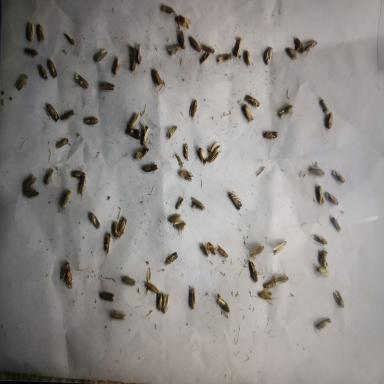pbw: (300, 156, 327, 182), (249, 282, 277, 307), (312, 309, 334, 337), (304, 223, 330, 246), (138, 272, 162, 296), (307, 180, 326, 210), (297, 36, 320, 60), (113, 213, 130, 245), (183, 281, 199, 315), (131, 139, 154, 162), (170, 8, 192, 32), (53, 106, 78, 127), (69, 71, 94, 92), (204, 141, 224, 167), (273, 102, 296, 124), (243, 242, 265, 265), (330, 287, 348, 315), (148, 66, 168, 91), (312, 93, 332, 118), (173, 19, 189, 50), (243, 256, 260, 285), (270, 236, 292, 258), (267, 268, 290, 289), (78, 113, 102, 133), (200, 236, 220, 259), (327, 164, 346, 188), (90, 44, 109, 68), (42, 99, 60, 124), (108, 53, 124, 81), (230, 31, 246, 59), (12, 68, 29, 94), (40, 161, 57, 187), (161, 40, 183, 60), (321, 187, 341, 209), (184, 30, 202, 54), (321, 105, 337, 132), (124, 110, 142, 134), (85, 206, 102, 231), (168, 219, 189, 239), (210, 242, 231, 262), (258, 271, 279, 291), (260, 125, 280, 146), (30, 22, 49, 44), (106, 304, 128, 323), (120, 125, 142, 144), (96, 286, 119, 304), (214, 292, 232, 315), (43, 55, 60, 79), (57, 258, 72, 285), (100, 228, 113, 259), (158, 0, 178, 20), (187, 193, 207, 213), (50, 132, 71, 151), (161, 248, 179, 270), (19, 168, 37, 190), (57, 187, 72, 213), (328, 213, 344, 237), (215, 49, 235, 68), (193, 241, 212, 261), (175, 166, 196, 184), (239, 47, 256, 69), (67, 164, 90, 180), (261, 42, 274, 70), (187, 94, 200, 122), (161, 122, 180, 141), (242, 92, 262, 110), (24, 18, 36, 48), (18, 185, 42, 200), (284, 44, 302, 64), (97, 78, 118, 95), (196, 143, 210, 168), (76, 173, 90, 197), (119, 272, 140, 288), (19, 43, 40, 59), (109, 216, 121, 244), (34, 62, 49, 84), (139, 122, 152, 147), (131, 42, 143, 67), (64, 267, 76, 292), (241, 101, 255, 122), (291, 34, 305, 55), (314, 262, 330, 280), (204, 137, 219, 156), (140, 160, 160, 174), (197, 41, 217, 55), (180, 140, 192, 163), (317, 248, 329, 268), (172, 192, 185, 210), (166, 210, 182, 224), (198, 50, 210, 68), (155, 291, 165, 312)
